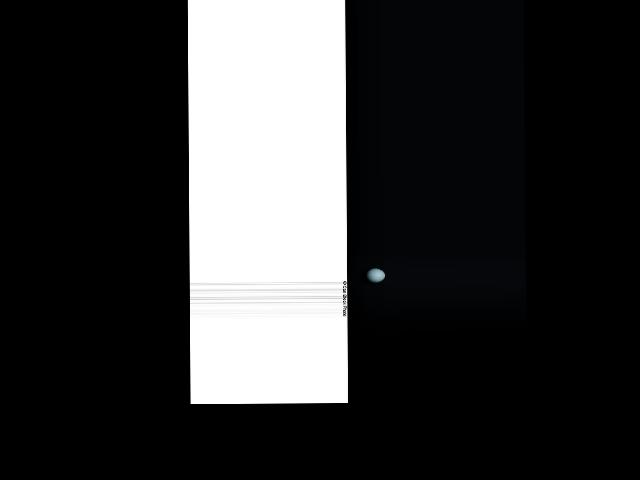egg: (365, 268, 385, 283)
